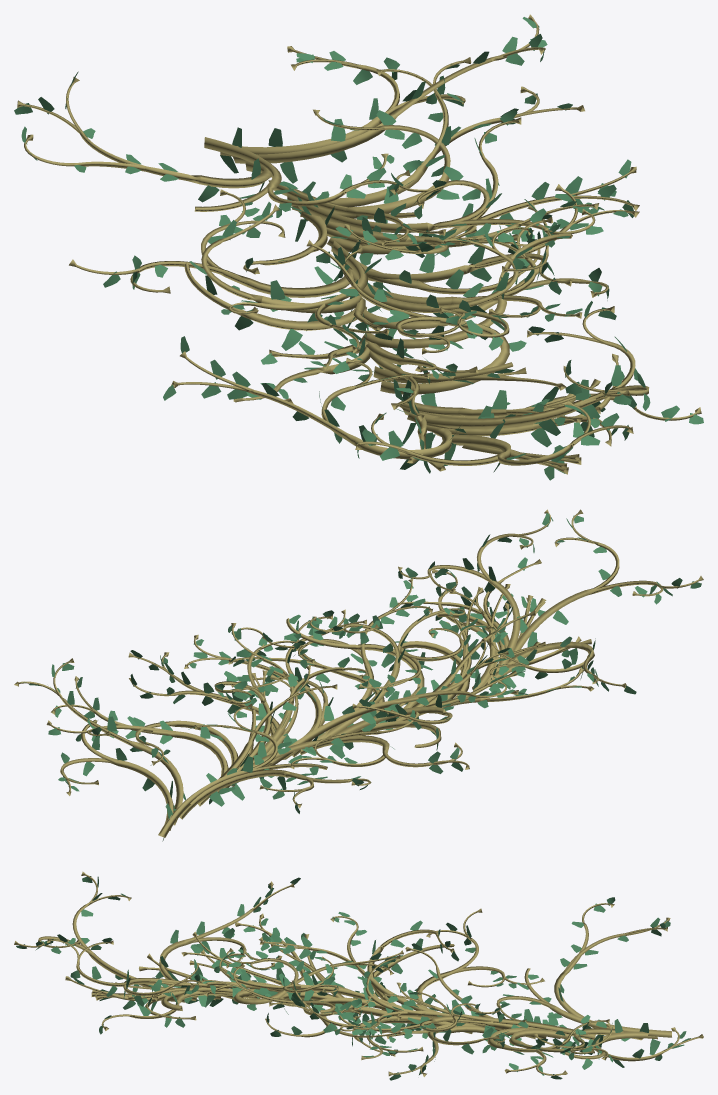
The model's file is Vine2.fbx.
3 renders of one model, top to bottom at view 1: azimuth 30°, elevation 25°; view 2: azimuth 150°, elevation 25°; view 3: azimuth 270°, elevation 25°, orthographic. The views are drawn at different scales.
Parts seen in each view (by area): view 1: vineLeafyThick2Main, vineLeafyThick2Leaf; view 2: vineLeafyThick2Main, vineLeafyThick2Leaf; view 3: vineLeafyThick2Main, vineLeafyThick2Leaf.
Boxes of the visible parts, x1,y1,x2,y2 form: vineLeafyThick2Main: (17,14,701,474); vineLeafyThick2Leaf: (14,17,703,480); vineLeafyThick2Main: (14,509,703,837); vineLeafyThick2Leaf: (21,513,701,841); vineLeafyThick2Main: (14,871,703,1076); vineLeafyThick2Leaf: (16,876,690,1080).
Bounding box in the file's own units: 386 × 87.96 × 572.
